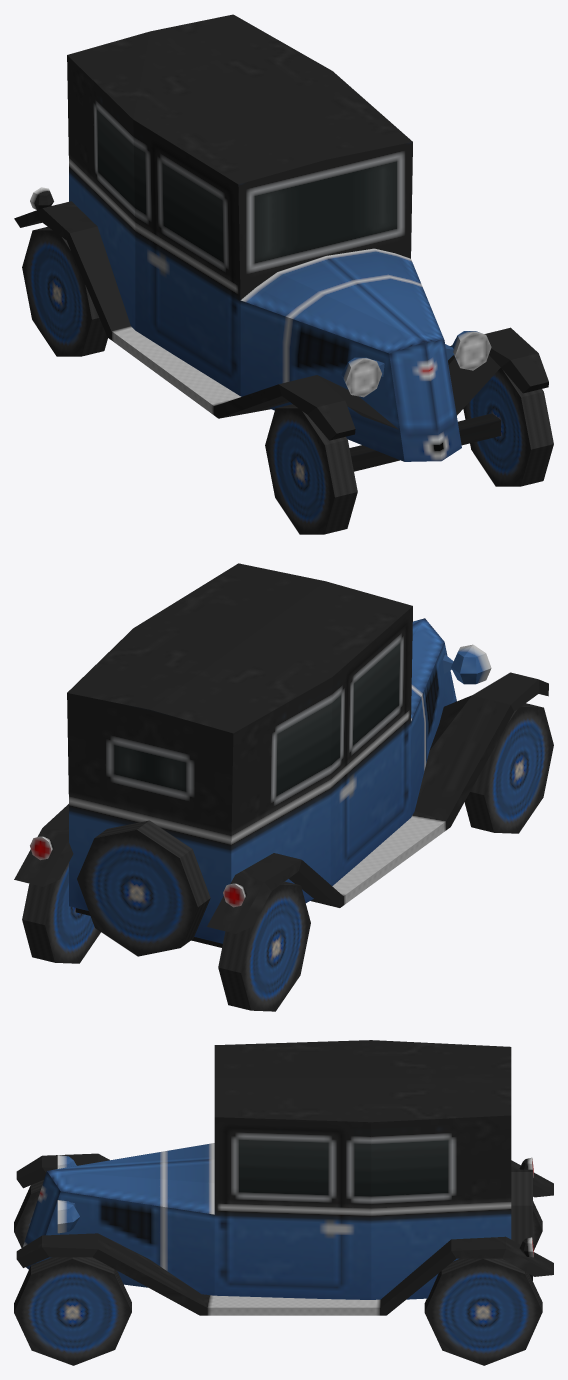
Rendered from Car7.glb.
The picture shows the model from 3 angles, top to bottom: view 1: azimuth 30°, elevation 25°; view 2: azimuth 150°, elevation 25°; view 3: azimuth 270°, elevation 25°; orthographic projection. The views are drawn at different scales.
Size of the model in its own units: 2.43 by 2.86 by 5.78.
Materials: 1 (1 with a texture image).
